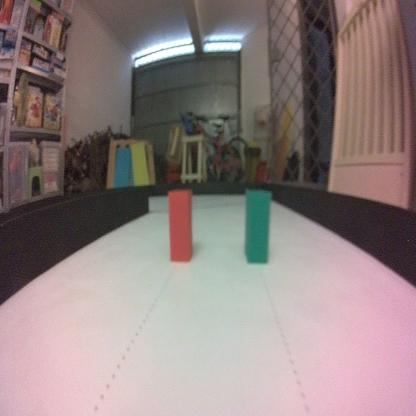green: (242, 188, 272, 266)
red: (166, 187, 194, 262)
